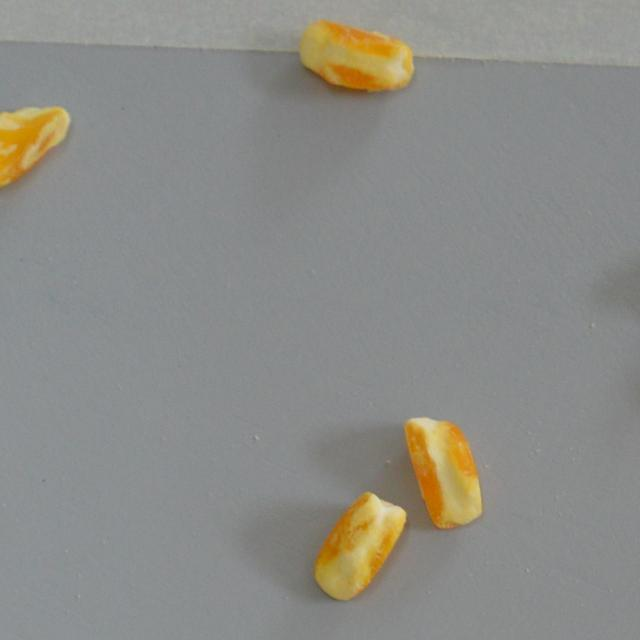pelicula: (310, 488, 406, 603), (289, 19, 416, 95), (404, 414, 484, 528), (0, 103, 86, 194)
